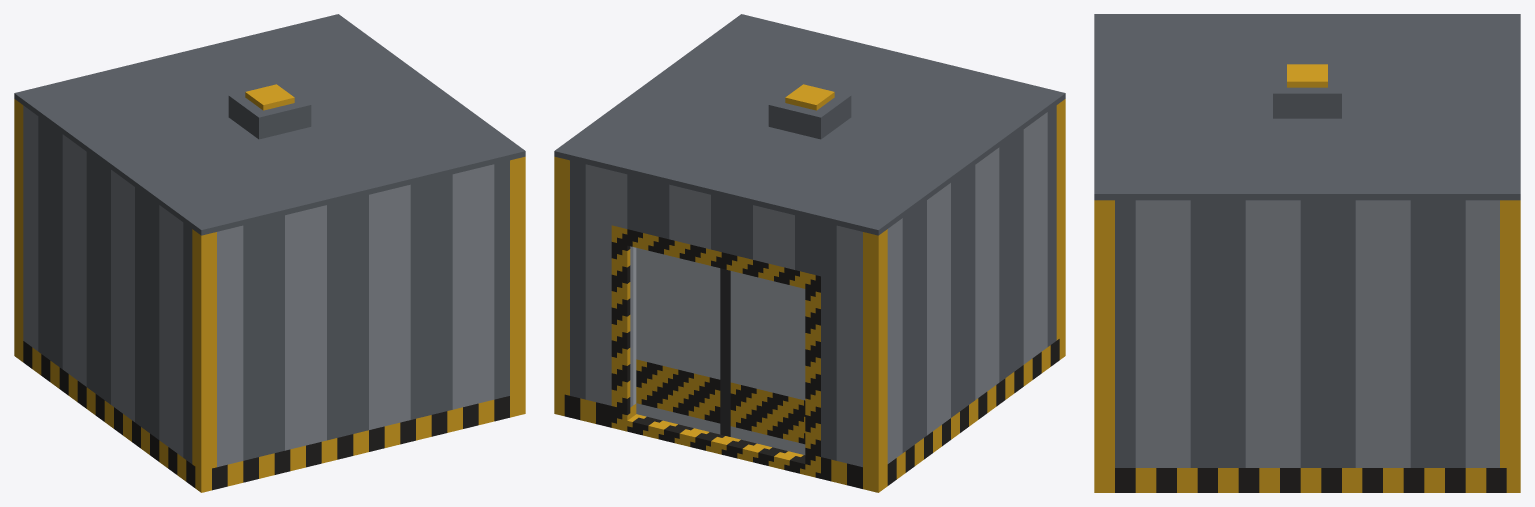
File: sm_elevator_car.gltf
3 views of the same model, side by side, from view 1: azimuth 30°, elevation 25°; view 2: azimuth 150°, elevation 25°; view 3: azimuth 270°, elevation 25° (orthographic). The views are drawn at different scales.
Visible parts, largest first — view 1: car_shell; view 2: car_shell, door_right, door_left; view 3: car_shell.
Boxes of the visible parts, x1=… form: car_shell: x1=14, y1=14, x2=525, y2=492; car_shell: x1=554, y1=14, x2=1065, y2=492; door_right: x1=636, y1=248, x2=725, y2=435; door_left: x1=725, y1=269, x2=805, y2=454; car_shell: x1=1094, y1=14, x2=1520, y2=492.
Bounding box in the file's own units: 3.72 × 3.18 × 3.72.
Materials: 2 (2 with a texture image).
